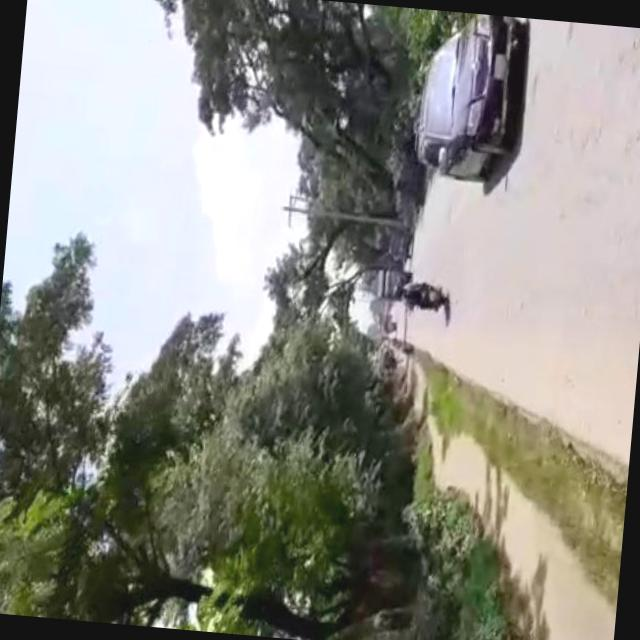car: (412, 14, 526, 189)
motorcycle: (407, 286, 446, 316)
